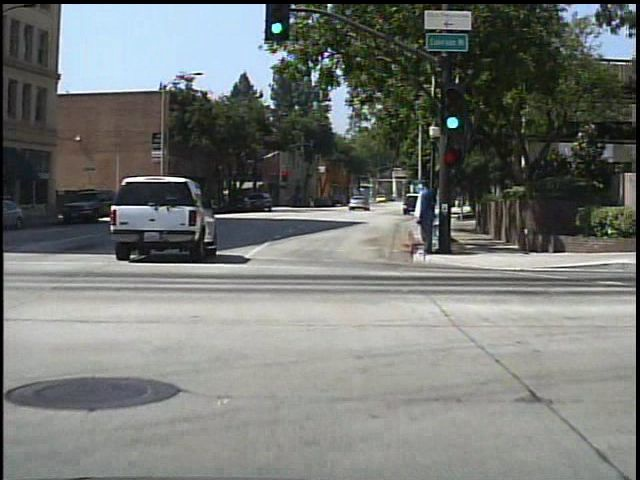person: (417, 178, 441, 257), (411, 183, 433, 260), (306, 193, 318, 209)
